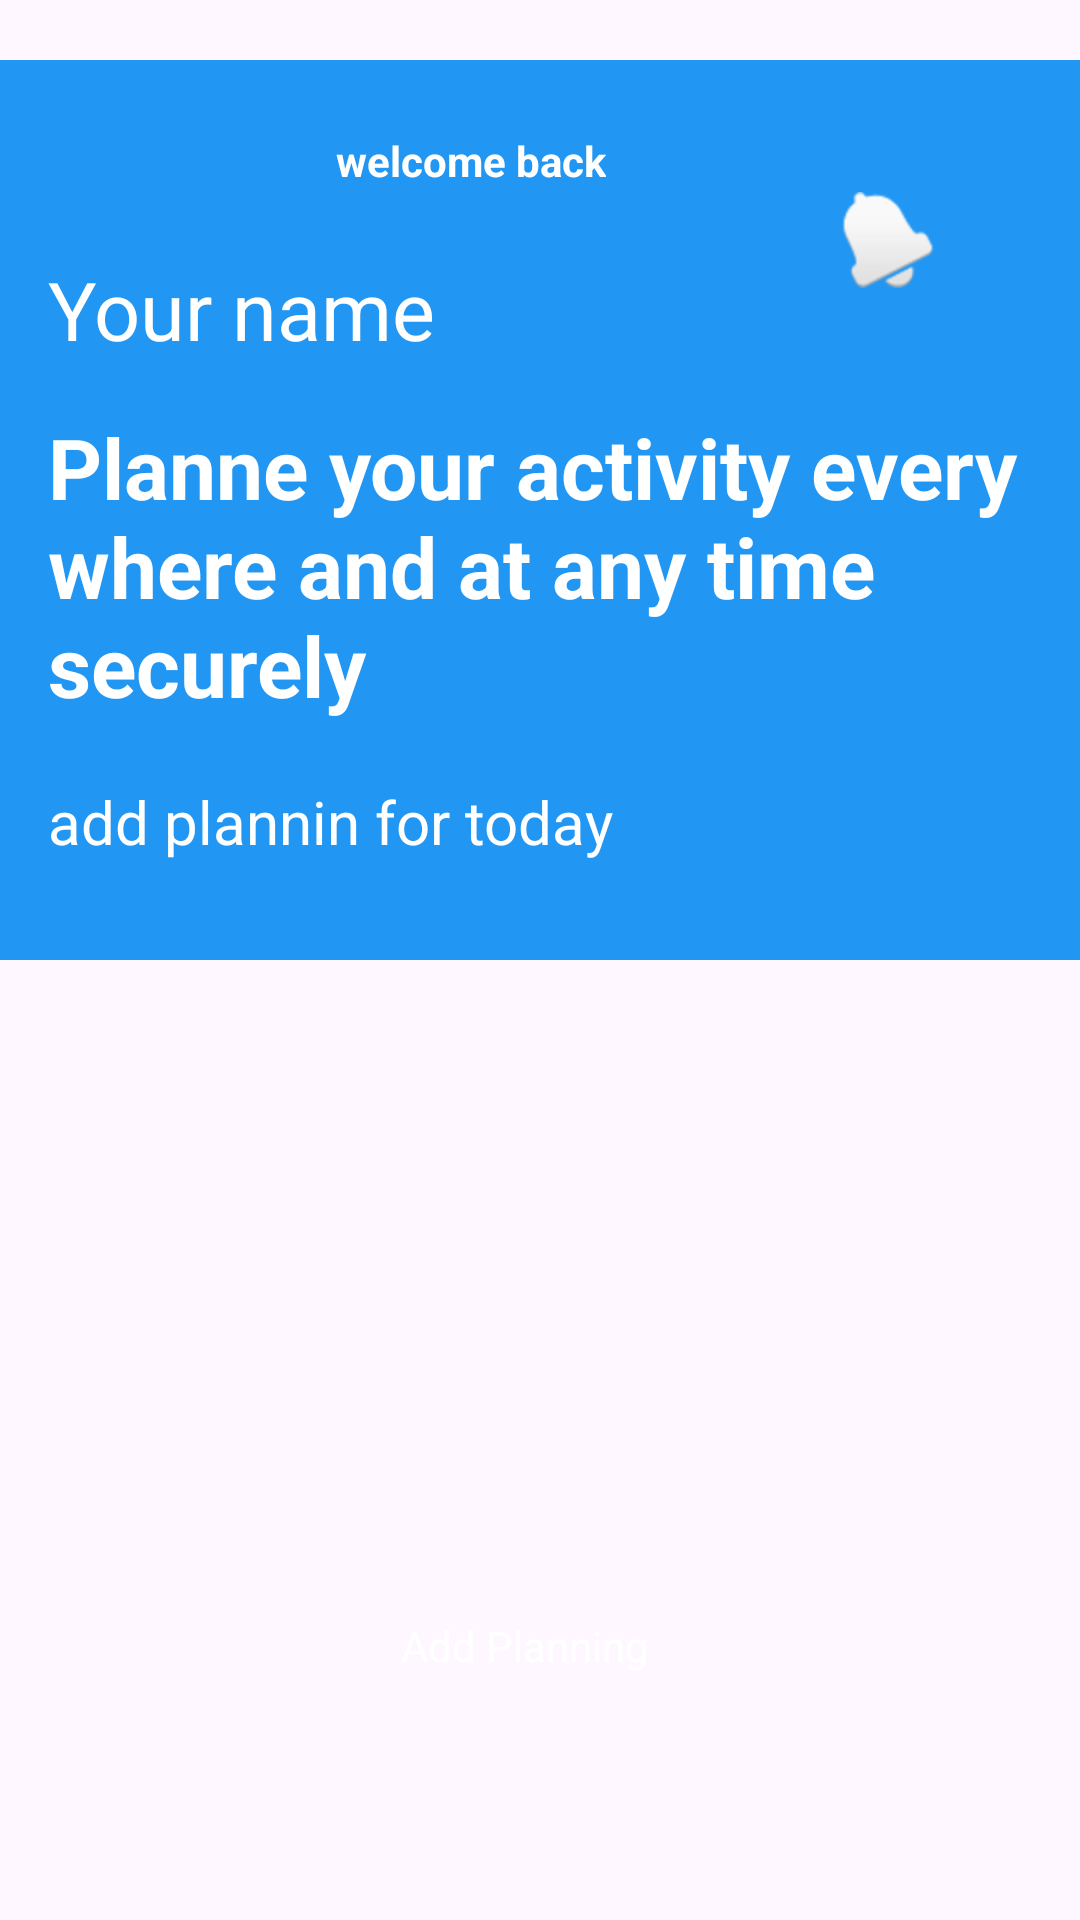

Icon click points for this 1080px×1920px phone screenshot, format [x,y]:
popup reminder: [888,240]
